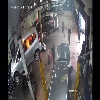fire: (22, 32, 36, 60)
